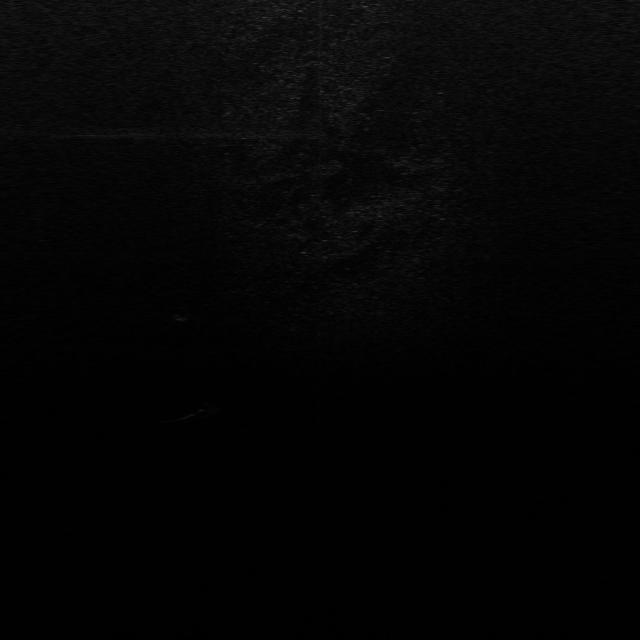ball: (187, 399, 222, 419)
circle cage: (170, 304, 194, 322)
